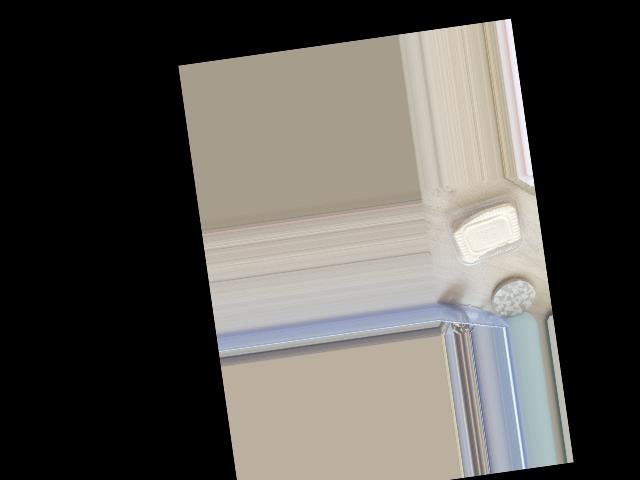cheese: (447, 174, 538, 271)
